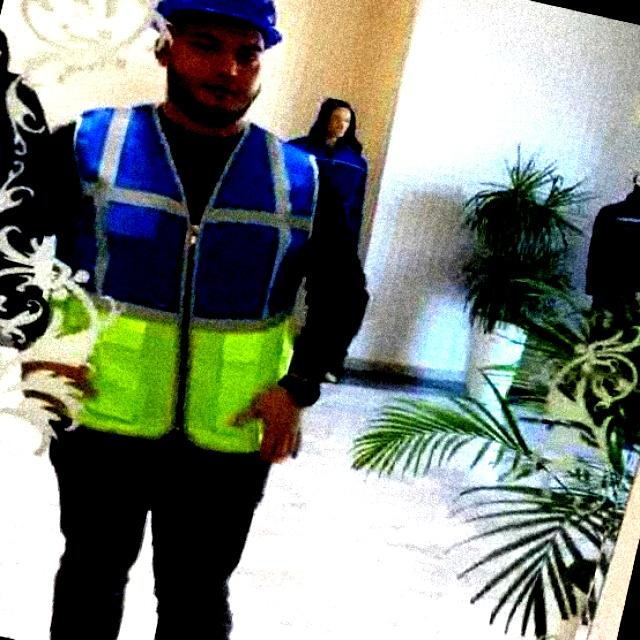helmet: (151, 0, 295, 46)
safety_vest: (60, 97, 306, 462)
